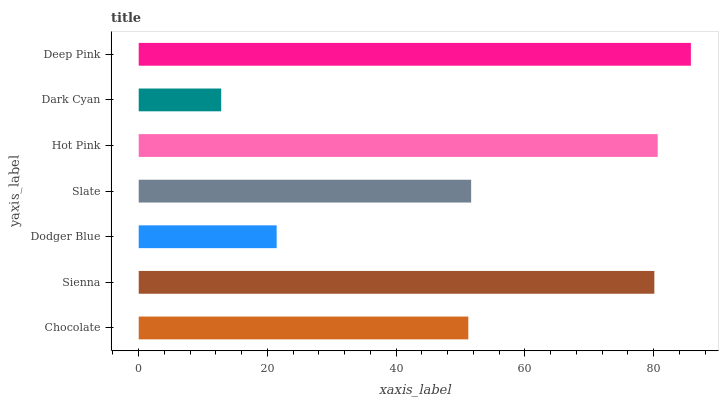canvas: (136, 39, 719, 343)
title: (110, 7, 144, 27)
x-axis: (109, 344, 723, 361)
x-labels: (131, 364, 670, 374)
x-title: (378, 383, 457, 398)
y-axis: (103, 26, 118, 350)
y-labels: (29, 30, 101, 340)
y-title: (3, 150, 25, 228)
